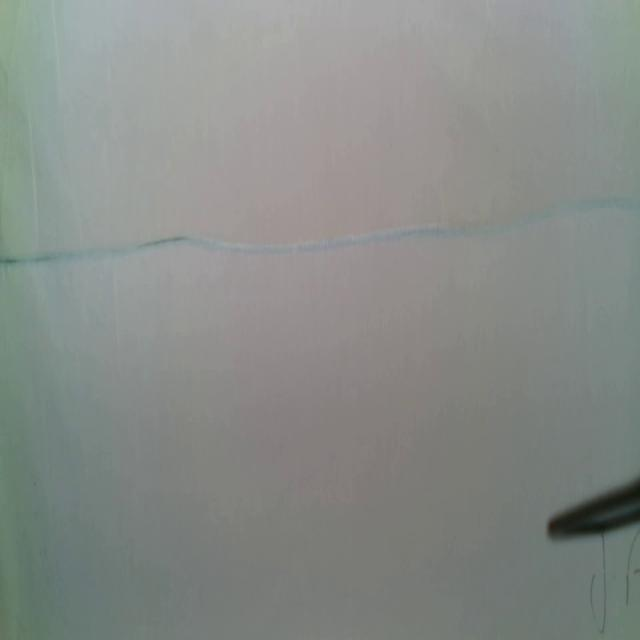crease: (28, 117, 44, 250), (50, 0, 65, 110)
